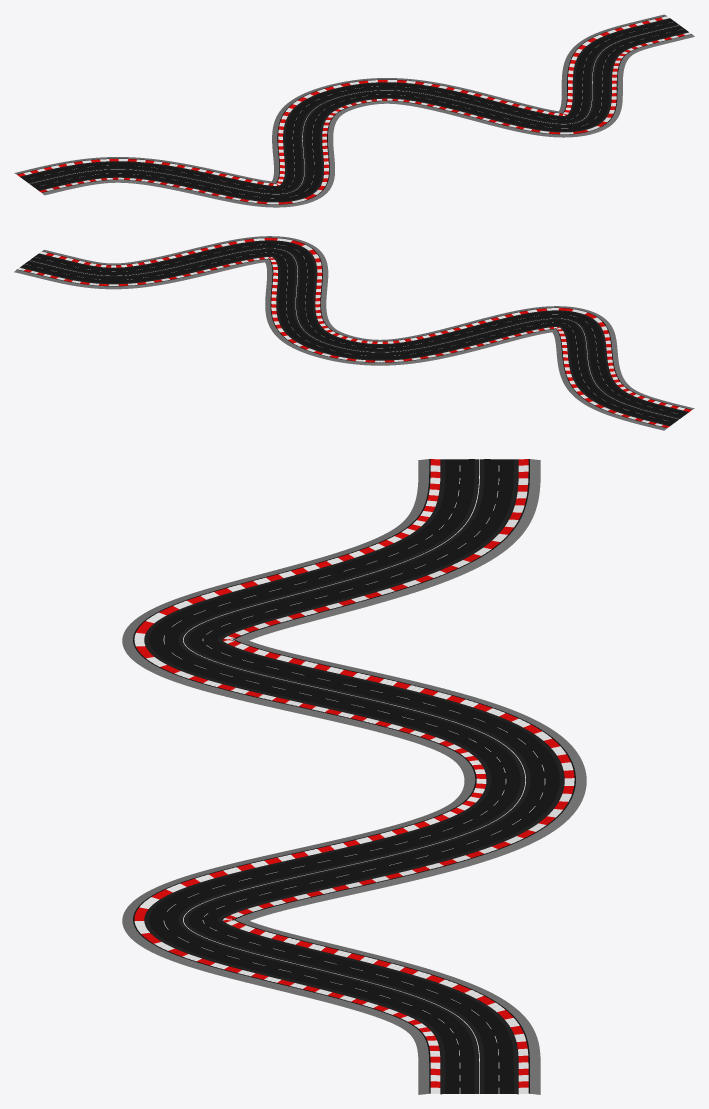
The model's file is S0.2c3-Wee2.glb.
3 views of the same model, one above another, from view 1: azimuth 30°, elevation 25°; view 2: azimuth 150°, elevation 25°; view 3: azimuth 270°, elevation 25° (orthographic). The views are drawn at different scales.
Visible parts, largest first — view 1: Grid; view 2: Grid; view 3: Grid.
Boxes of the visible parts, <box> form: Grid: <box>14,14,694,207</box>; Grid: <box>14,236,694,430</box>; Grid: <box>122,459,586,1094</box>.
Bounding box in the file's own units: 307 × 0.31 × 94.94.
